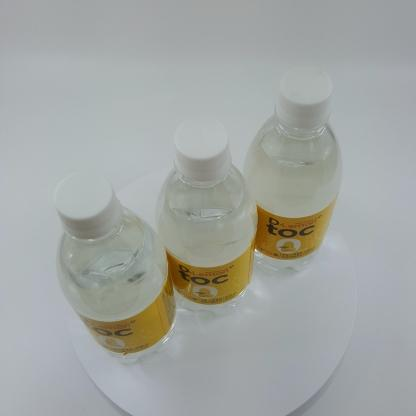------500ML: (53, 171, 177, 364), (243, 66, 343, 274), (155, 117, 258, 316)
